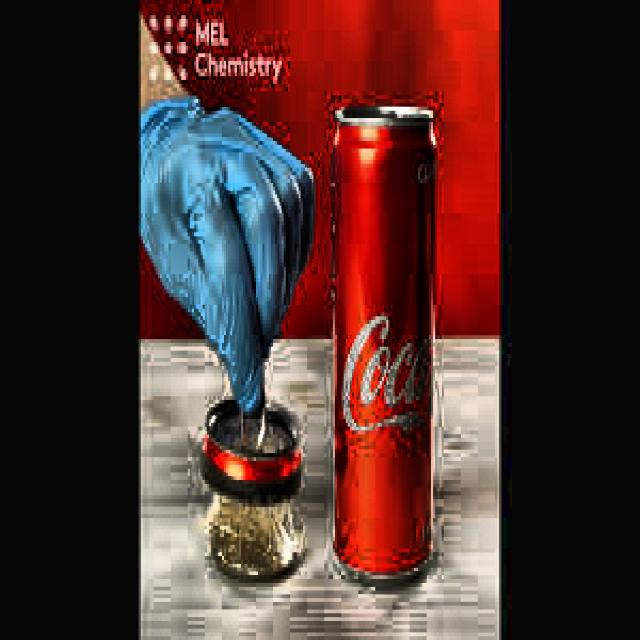can: (318, 94, 446, 594)
